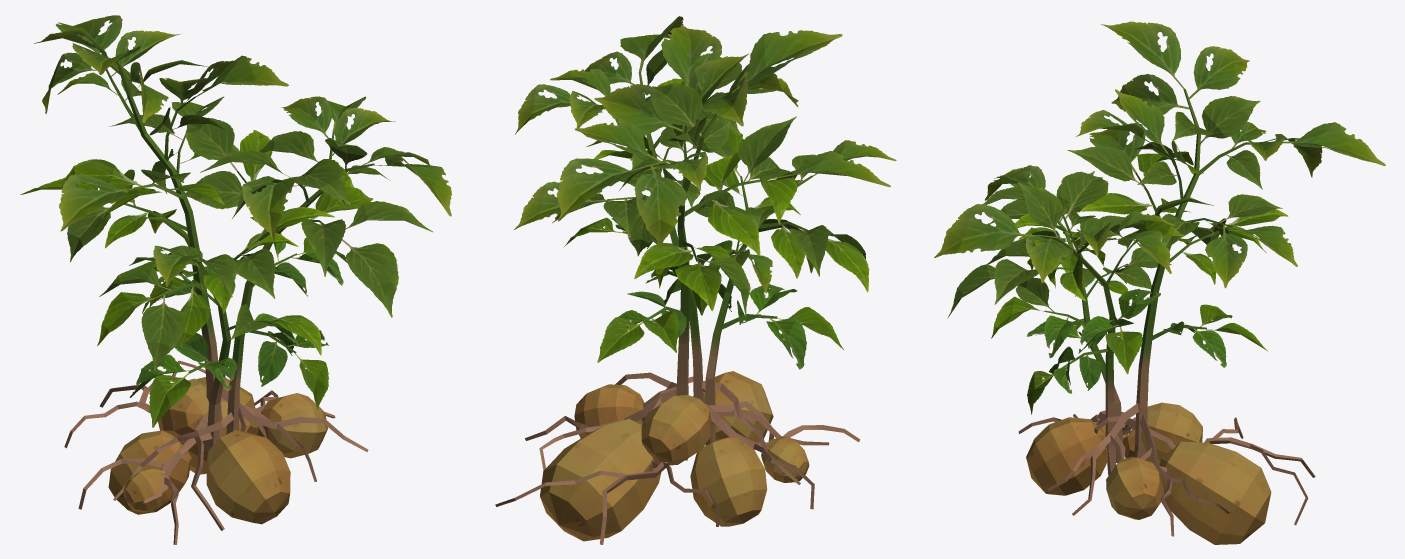
The model's file is P_Herb_00144.obj.
The picture shows the model from 3 angles, left to right: view 1: azimuth 30°, elevation 25°; view 2: azimuth 150°, elevation 25°; view 3: azimuth 270°, elevation 25°; orthographic projection. The views are drawn at different scales.
Bounding box in the file's own units: 0.6234 × 0.8443 × 0.7886.
1 material, 1 textured.
